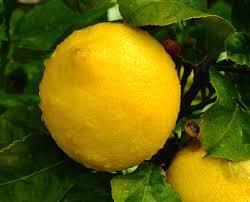lemon: (39, 21, 182, 171), (166, 142, 250, 202)
